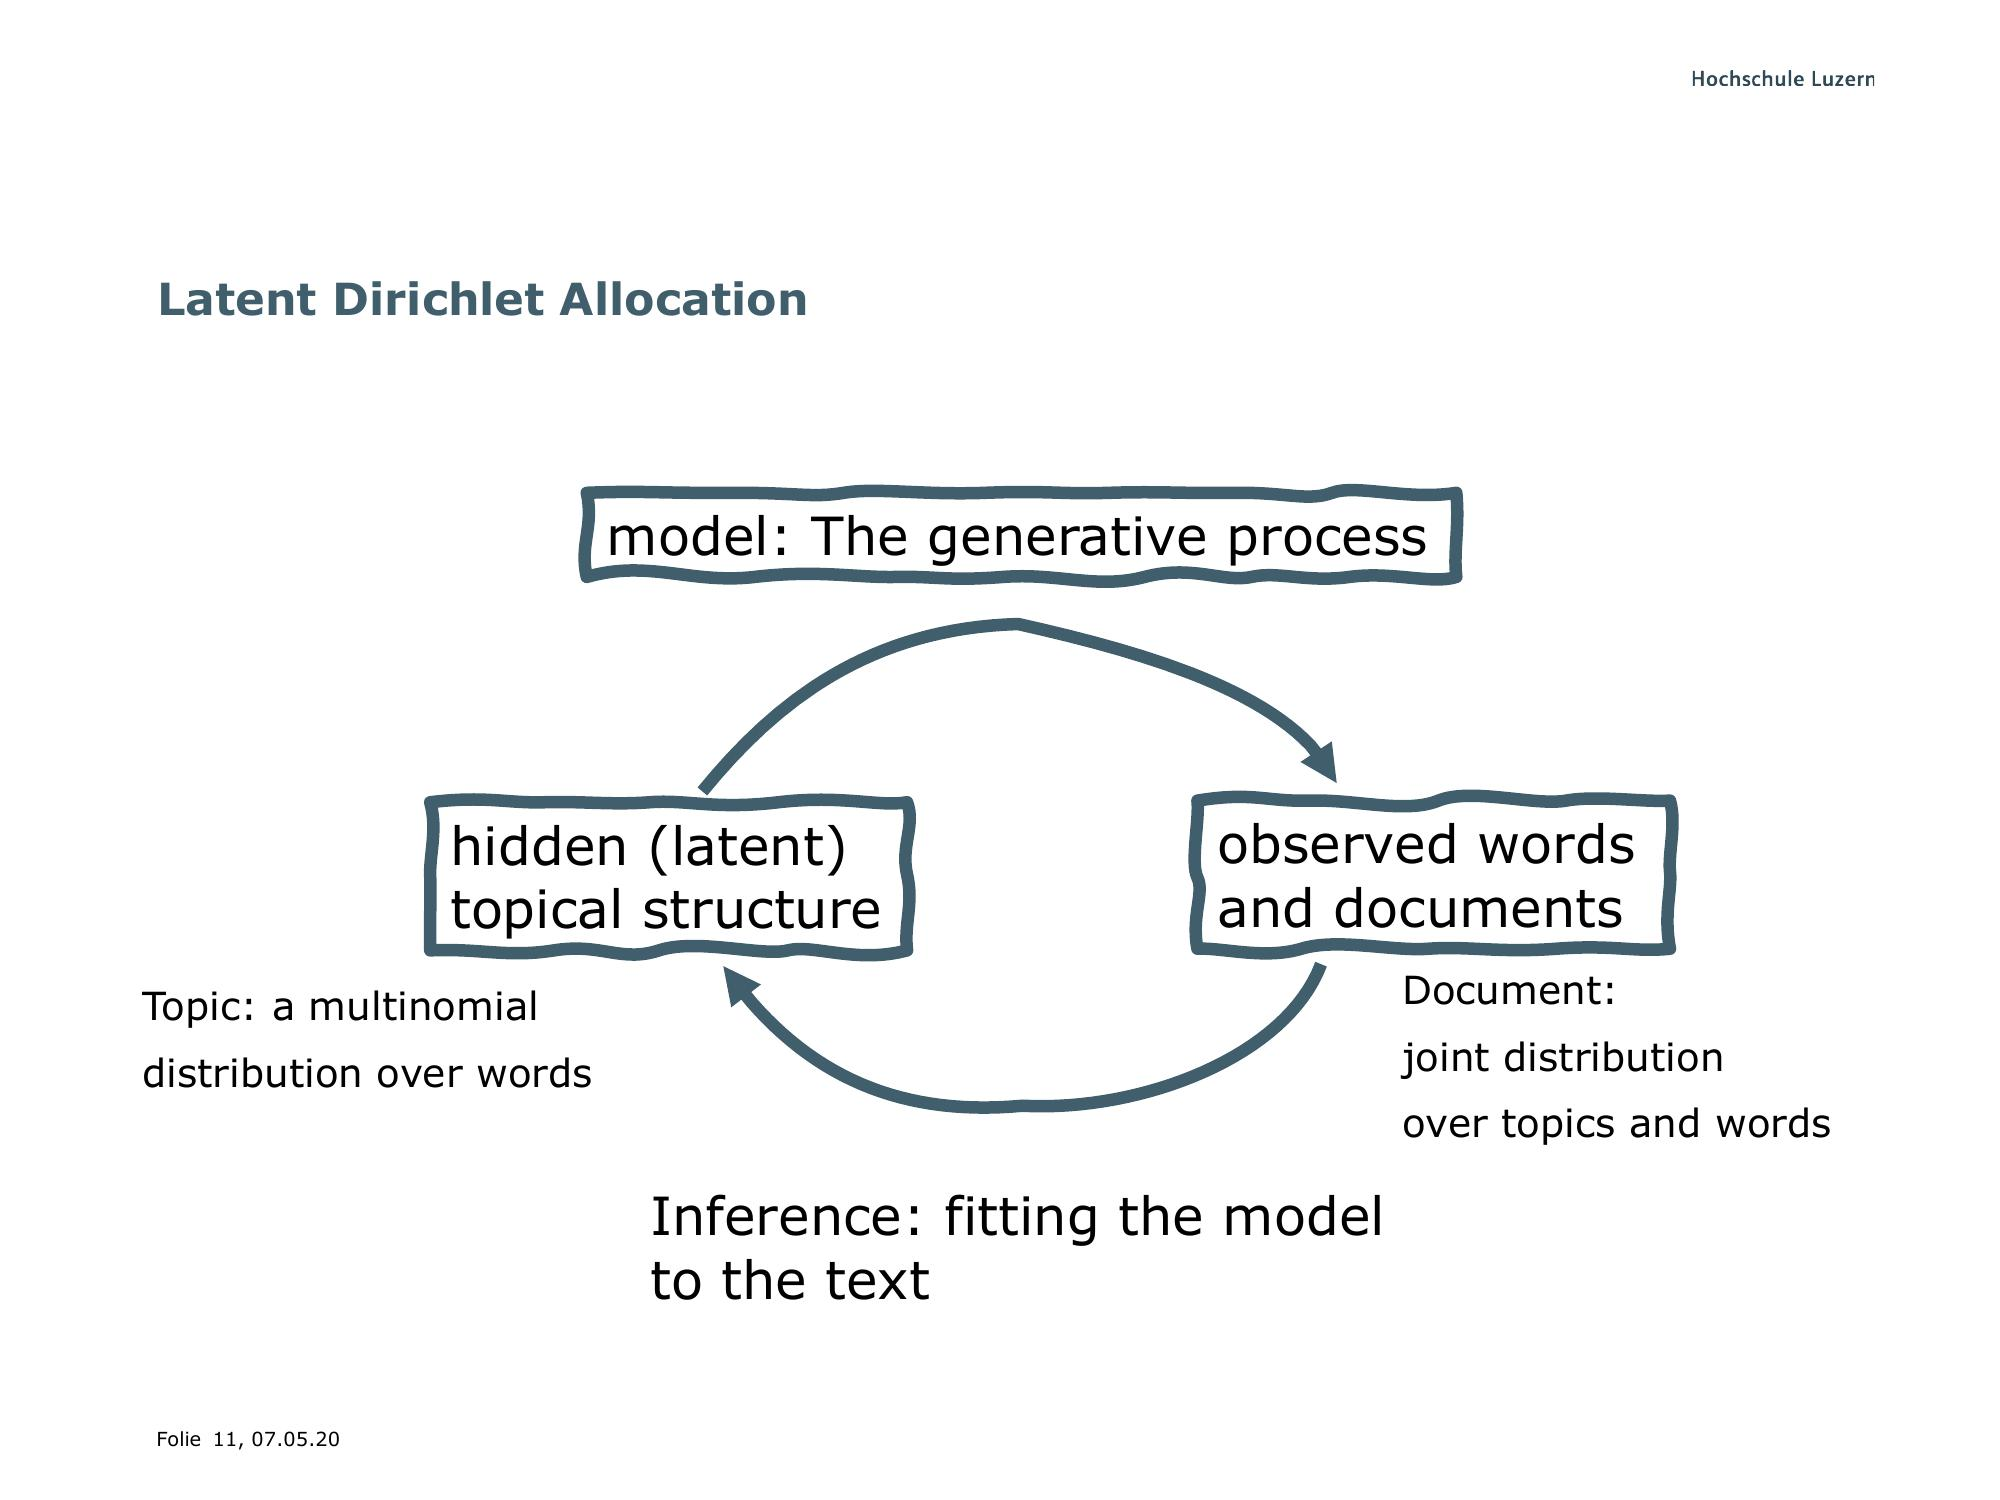Title: (90, 258, 833, 334)
